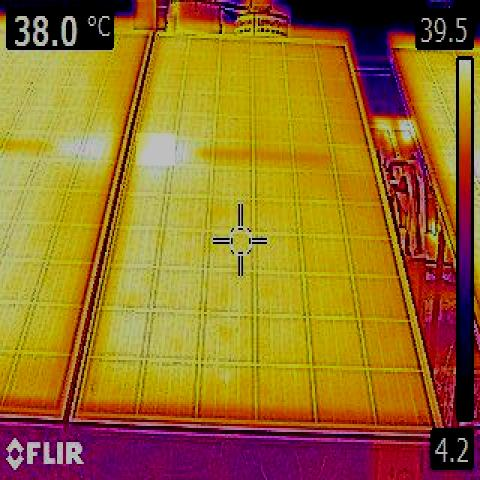fault: (136, 134, 175, 166)
